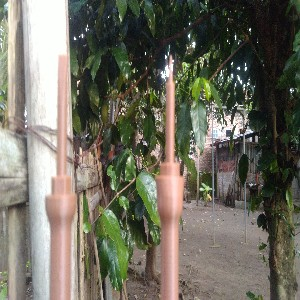solder: (154, 53, 185, 300)
